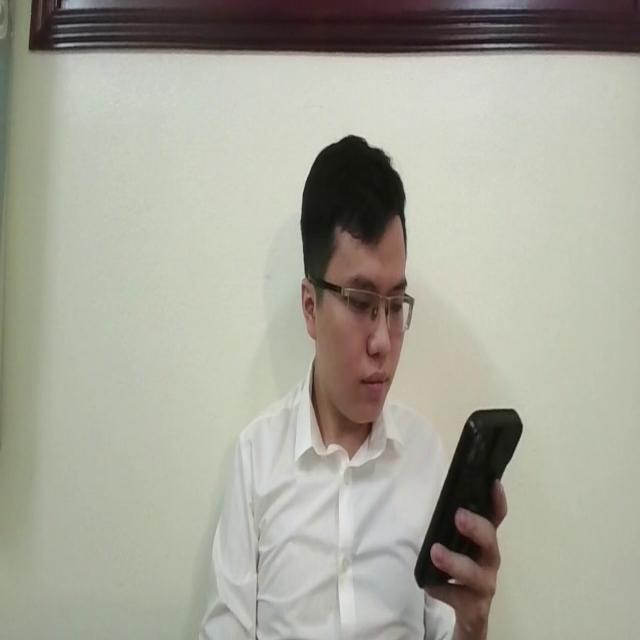phone: (411, 401, 523, 605)
student: (196, 135, 512, 640)
